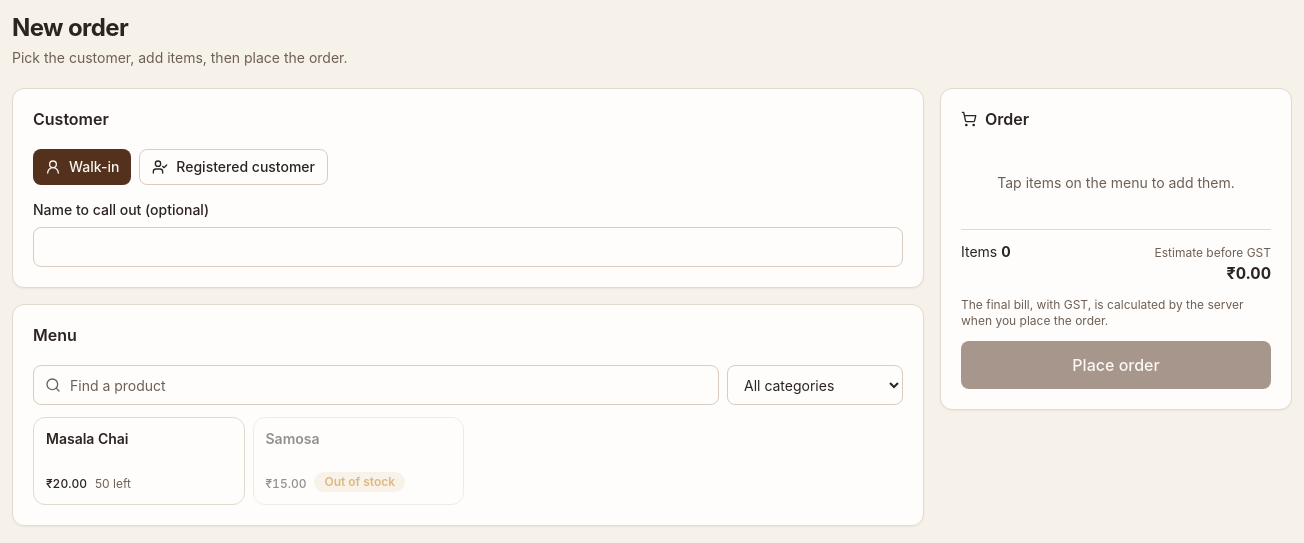
Test: POS › does not submit twice on a double click
Click the button "Masala Chai ₹20.00 50 left": (139, 461) [33,417,244,505]
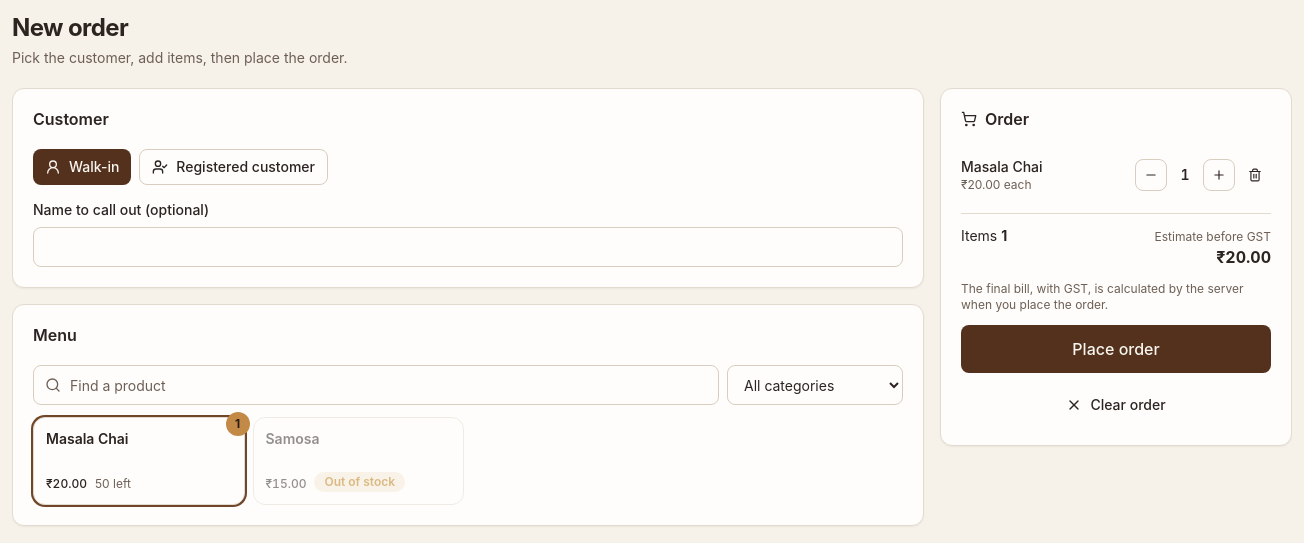
Double-click the button "Place order": (1116, 349) [961,325,1271,373]
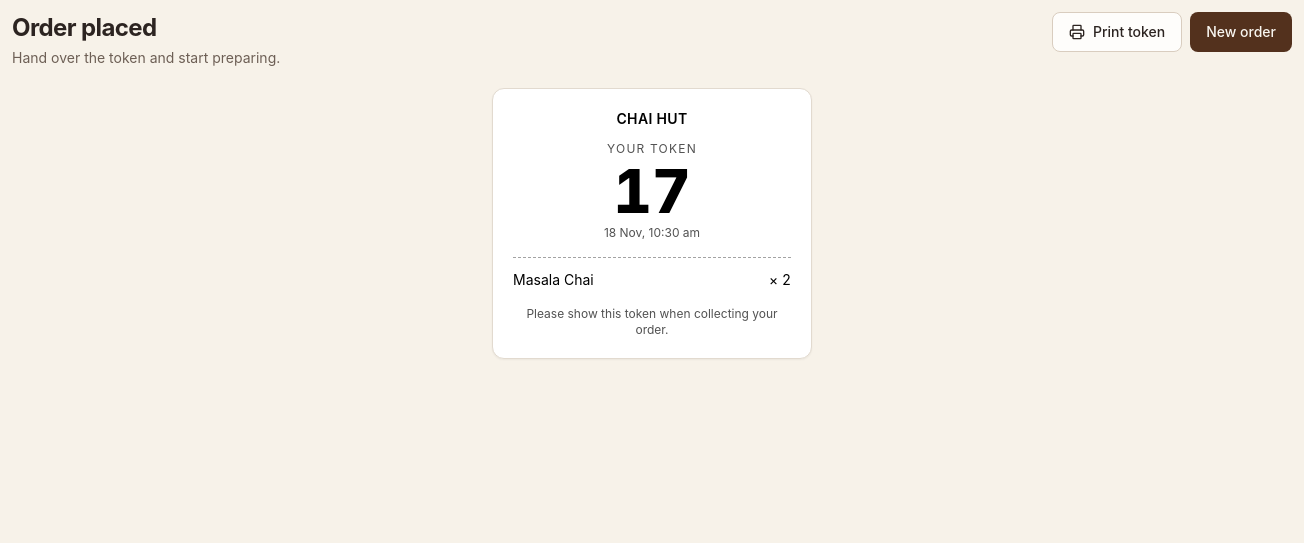
Expected: the element with test id "token-slip" is shown, [492,88,812,359]
